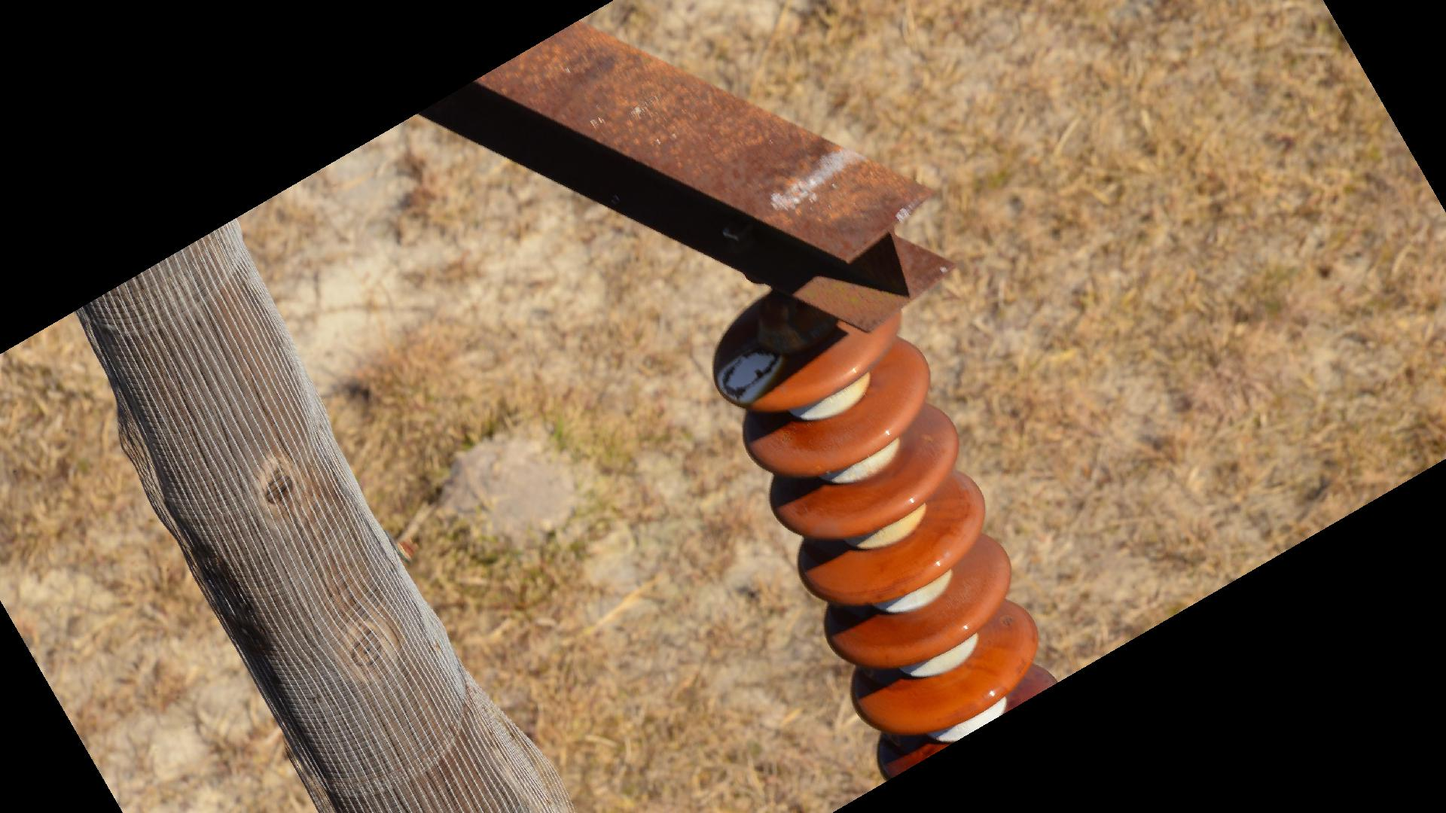insulator: (705, 287, 1063, 789)
insulator_flashover: (712, 347, 789, 409)
